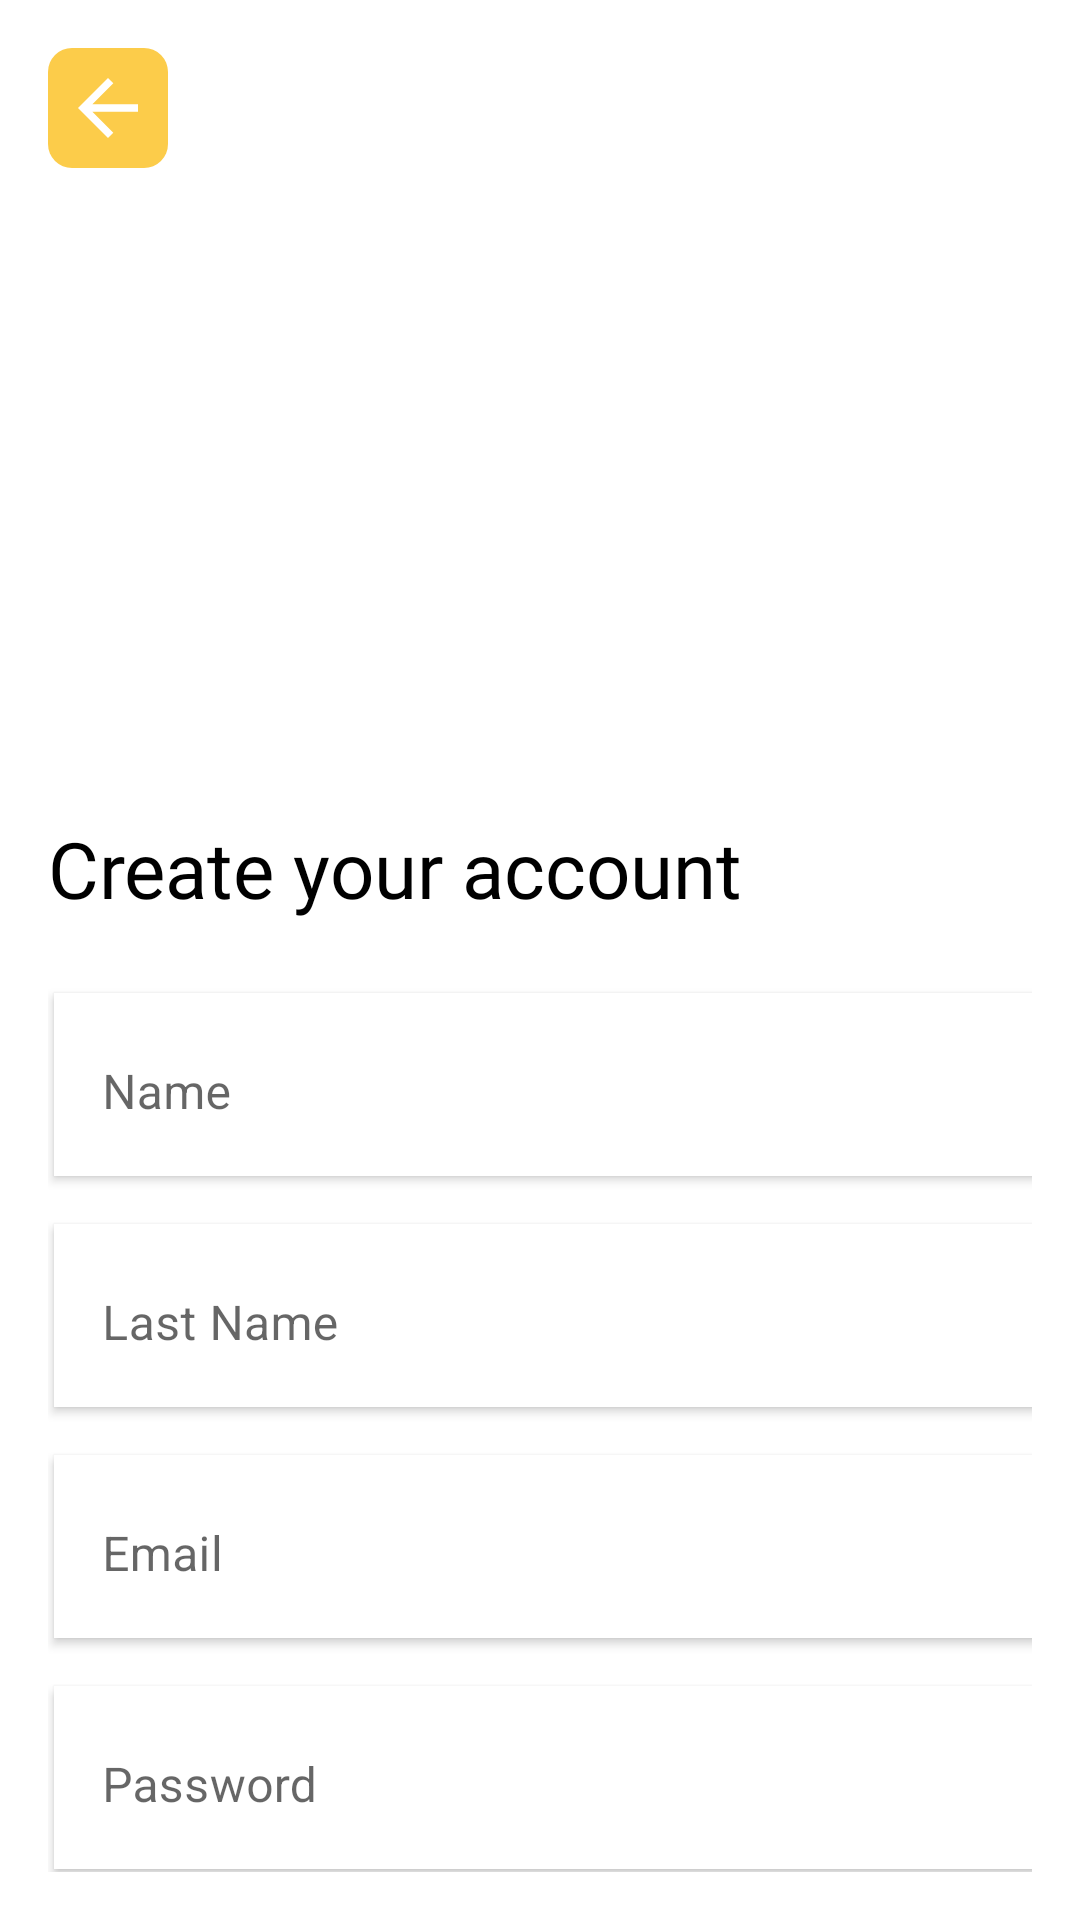

Icons on this 1080x1920 Android screen, each with the point to tap as (x=x, y=y):
return button: (x=108, y=108)
